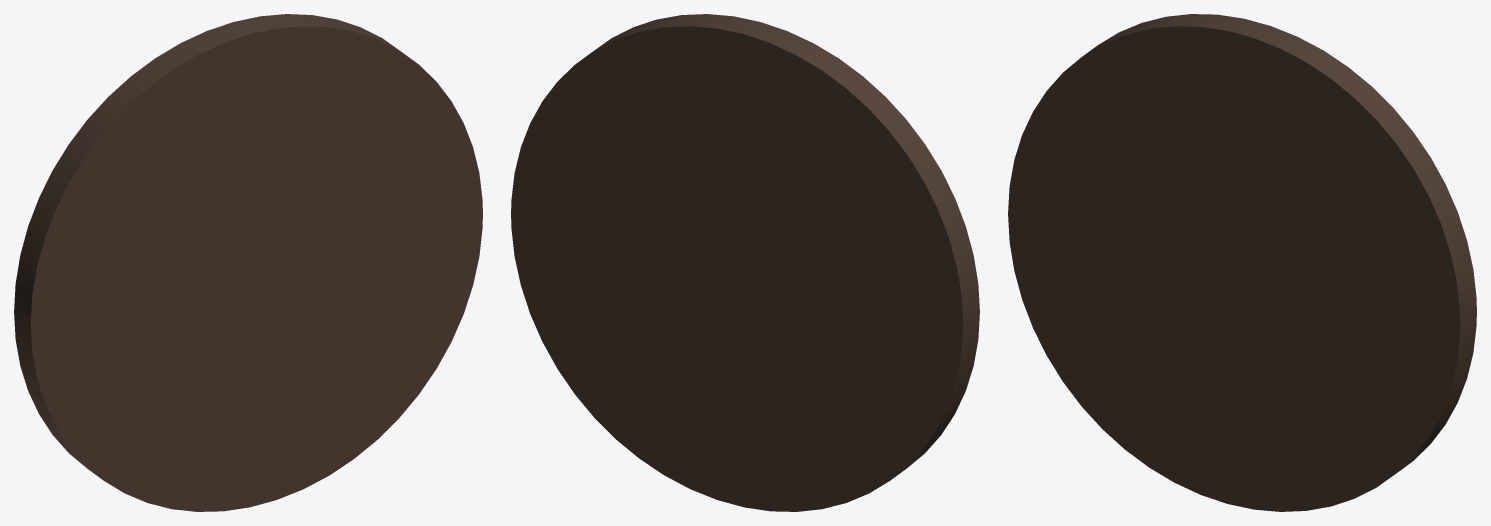
The model's file is ten.fbx.
3 views of the same model, side by side, from view 1: azimuth 30°, elevation 25°; view 2: azimuth 150°, elevation 25°; view 3: azimuth 330°, elevation 25° (orthographic).
Parts seen in each view (by area): view 1: 3DGeom~4; view 2: 3DGeom~4; view 3: 3DGeom~4.
Boxes of the visible parts, x1,y1,x2,y2 form: 3DGeom~4: (14, 14, 482, 511); 3DGeom~4: (511, 14, 979, 511); 3DGeom~4: (1008, 14, 1476, 511).
Bounding box in the file's own units: 0.0235 × 0.0015 × 0.0235.
